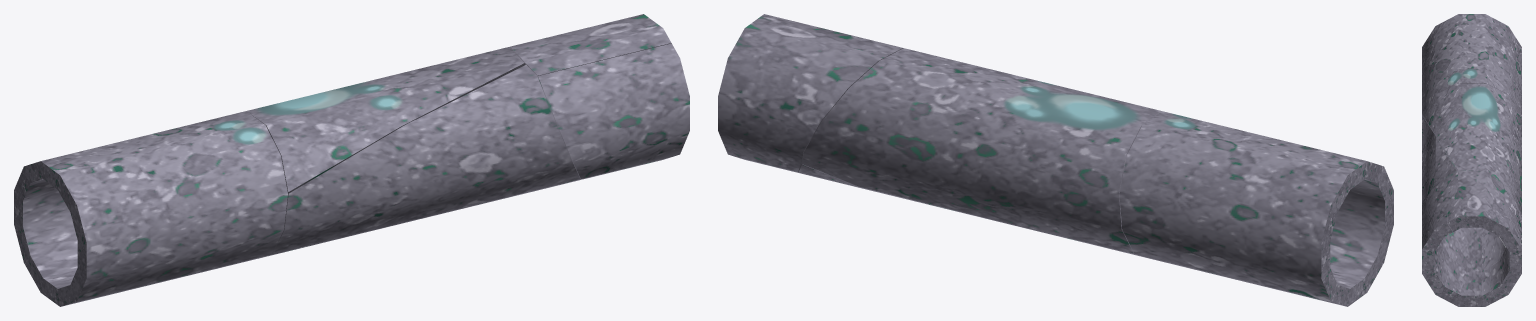
Rendered from Cement_Pipe_Drop.fbx.
3 renders of one model, left to right at view 1: azimuth 30°, elevation 25°; view 2: azimuth 150°, elevation 25°; view 3: azimuth 270°, elevation 25°, orthographic. The views are drawn at different scales.
Visible parts, largest first — view 1: Cement_Pipe_Drop_cell.003, Cement_Pipe_Drop_cell.001, Cement_Pipe_Drop_cell, Cement_Pipe_Drop_cell.002, Cement_Pipe_Drop_cell.004; view 2: Cement_Pipe_Drop_cell.002, Cement_Pipe_Drop_cell.003, Cement_Pipe_Drop_cell.004, Cement_Pipe_Drop_cell.001; view 3: Cement_Pipe_Drop_cell.002, Cement_Pipe_Drop_cell.003, Cement_Pipe_Drop_cell.004, Cement_Pipe_Drop_cell, Cement_Pipe_Drop_cell.001.
Part boxes in pixels (x1,y1,x2,y2): Cement_Pipe_Drop_cell.003: (14, 111, 287, 306); Cement_Pipe_Drop_cell.001: (258, 65, 581, 258); Cement_Pipe_Drop_cell: (538, 43, 689, 179); Cement_Pipe_Drop_cell.002: (247, 47, 525, 194); Cement_Pipe_Drop_cell.004: (510, 14, 671, 80); Cement_Pipe_Drop_cell.002: (802, 48, 1161, 258); Cement_Pipe_Drop_cell.003: (1119, 111, 1393, 306); Cement_Pipe_Drop_cell.004: (718, 14, 902, 172); Cement_Pipe_Drop_cell.001: (798, 164, 1000, 222); Cement_Pipe_Drop_cell.002: (1423, 83, 1521, 246); Cement_Pipe_Drop_cell.003: (1422, 14, 1521, 149); Cement_Pipe_Drop_cell.004: (1447, 170, 1521, 300); Cement_Pipe_Drop_cell: (1422, 178, 1496, 306); Cement_Pipe_Drop_cell.001: (1422, 115, 1505, 270).
Size of the model in its own units: 254 by 52.92 by 52.92.
